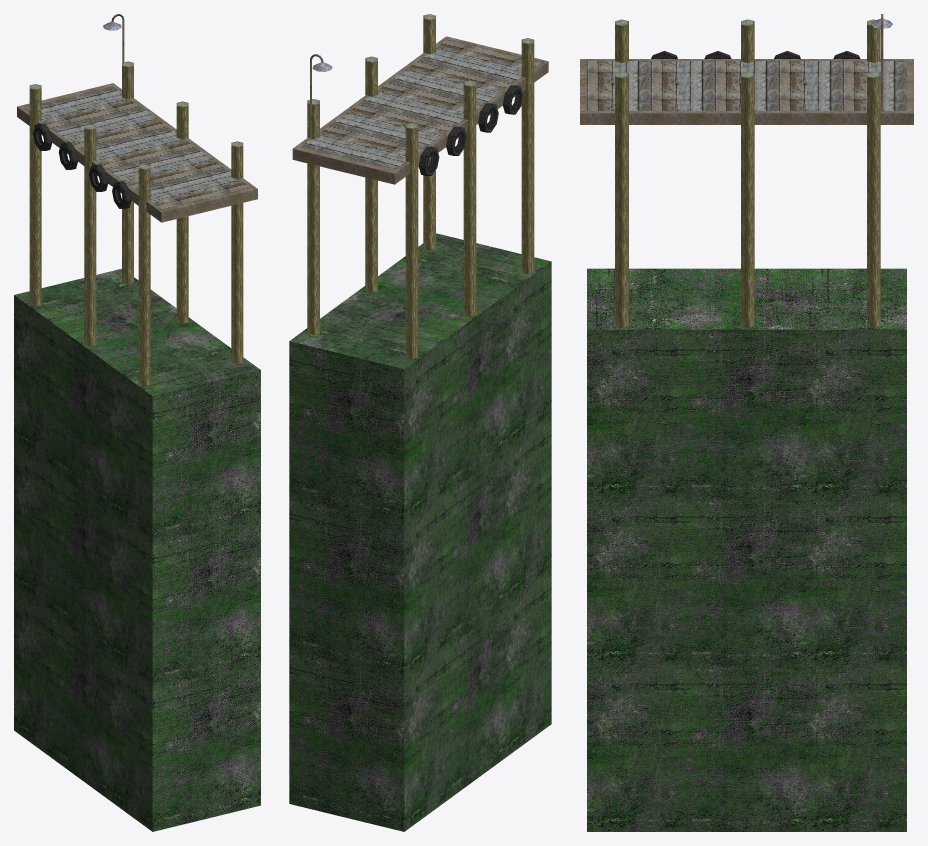
Rendered from ws_jettynol_sfx.obj.
3 renders of one model, left to right at view 1: azimuth 30°, elevation 25°; view 2: azimuth 150°, elevation 25°; view 3: azimuth 270°, elevation 25°, orthographic. The views are drawn at different scales.
Visible parts, largest first — view 1: ws_jettynol_SFX; view 2: ws_jettynol_SFX; view 3: ws_jettynol_SFX.
Part boxes in pixels (x1,y1,x2,y2): ws_jettynol_SFX: (14,14,260,831); ws_jettynol_SFX: (289,14,551,831); ws_jettynol_SFX: (580,14,913,831).
Size of the model in its own units: 4.54 by 28.01 by 10.47.
8 materials, 8 textured.
